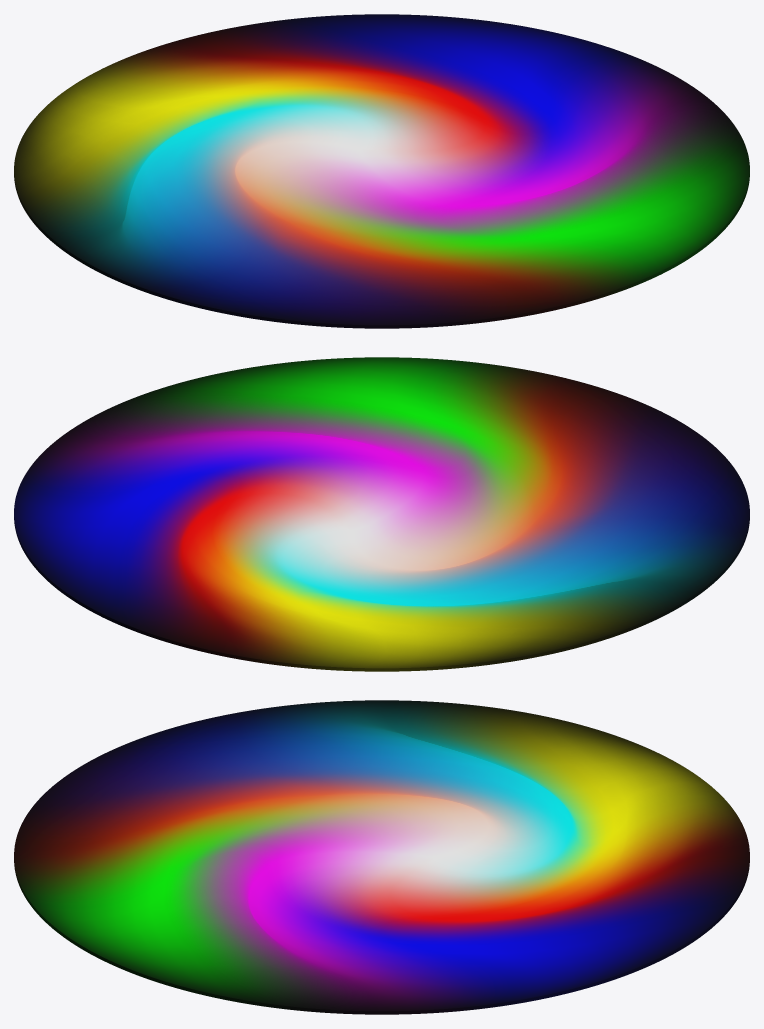
The picture shows the model from 3 angles, top to bottom: view 1: azimuth 30°, elevation 25°; view 2: azimuth 150°, elevation 25°; view 3: azimuth 270°, elevation 25°; orthographic projection.
Parts seen in each view (by area): view 1: qq.011; view 2: qq.011; view 3: qq.011.
Part boxes in pixels (x1,y1,x2,y2): qq.011: [14, 14, 749, 328]; qq.011: [14, 357, 749, 671]; qq.011: [14, 700, 749, 1014].
Bounding box in the file's own units: 131 × 0.6567 × 131.
1 material, 1 textured.
